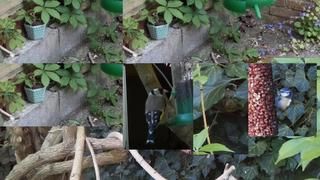blue tit: (272, 87, 293, 117)
goldfinch: (145, 87, 169, 144)
